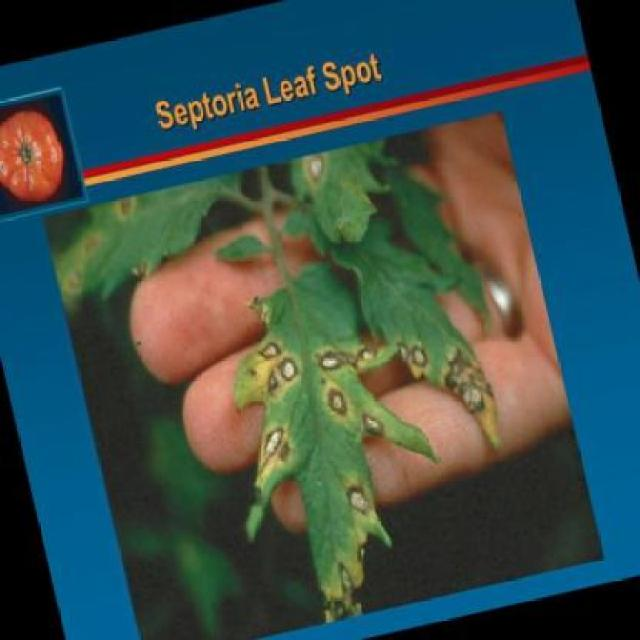Septoria leaf spot: (188, 258, 450, 632), (362, 206, 510, 469), (35, 160, 272, 312)
